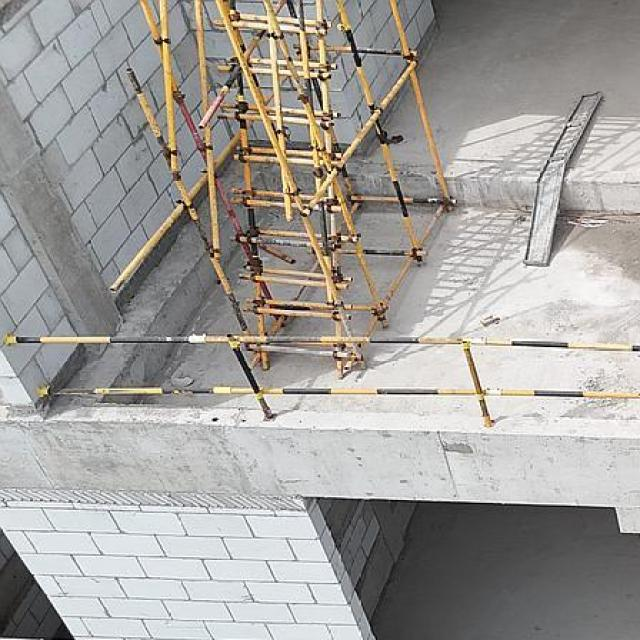edge_guardrail: (5, 332, 640, 429)
